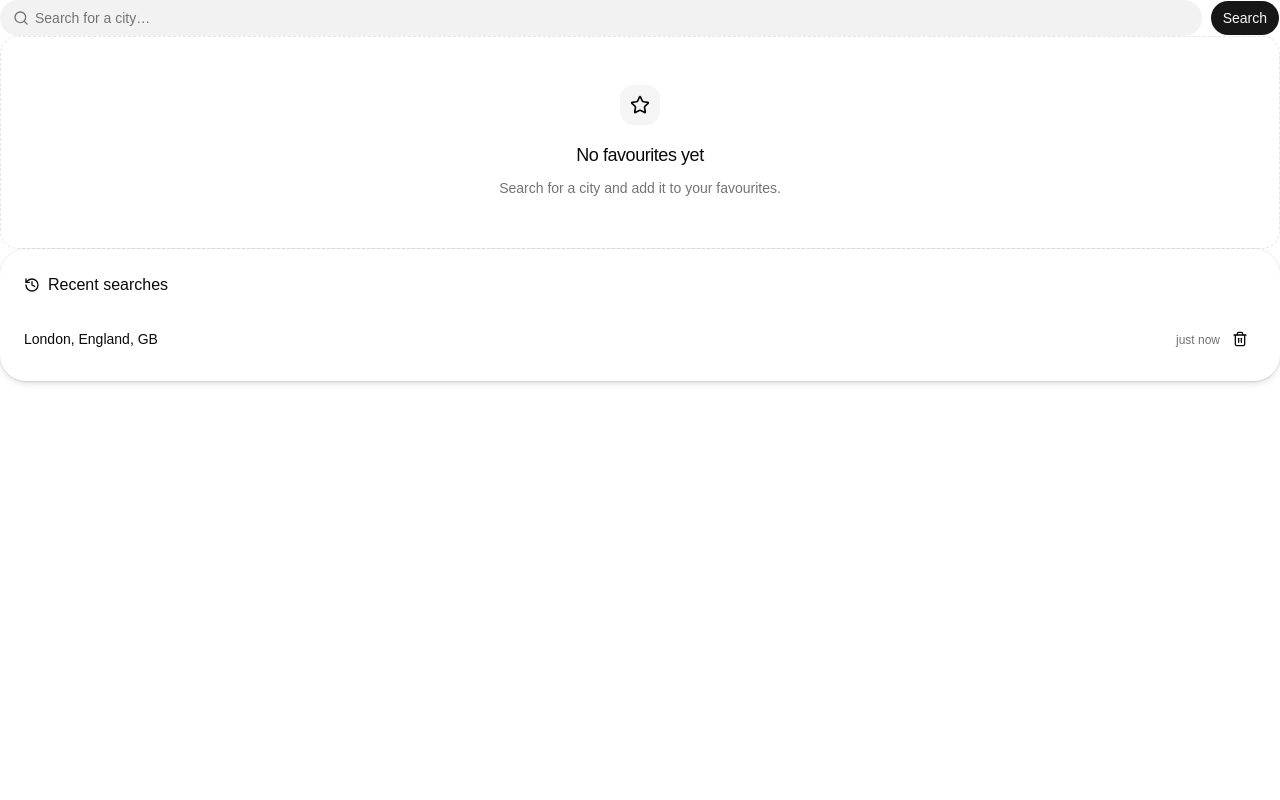
Test: home page composition › clicking a history row re-runs the search in the dialog
Expected: the list with test id "history-list" is shown, [24,321,1256,357]
Click the button "London, England, GB just now".
click(91, 339)  # box [24,321,1220,357]
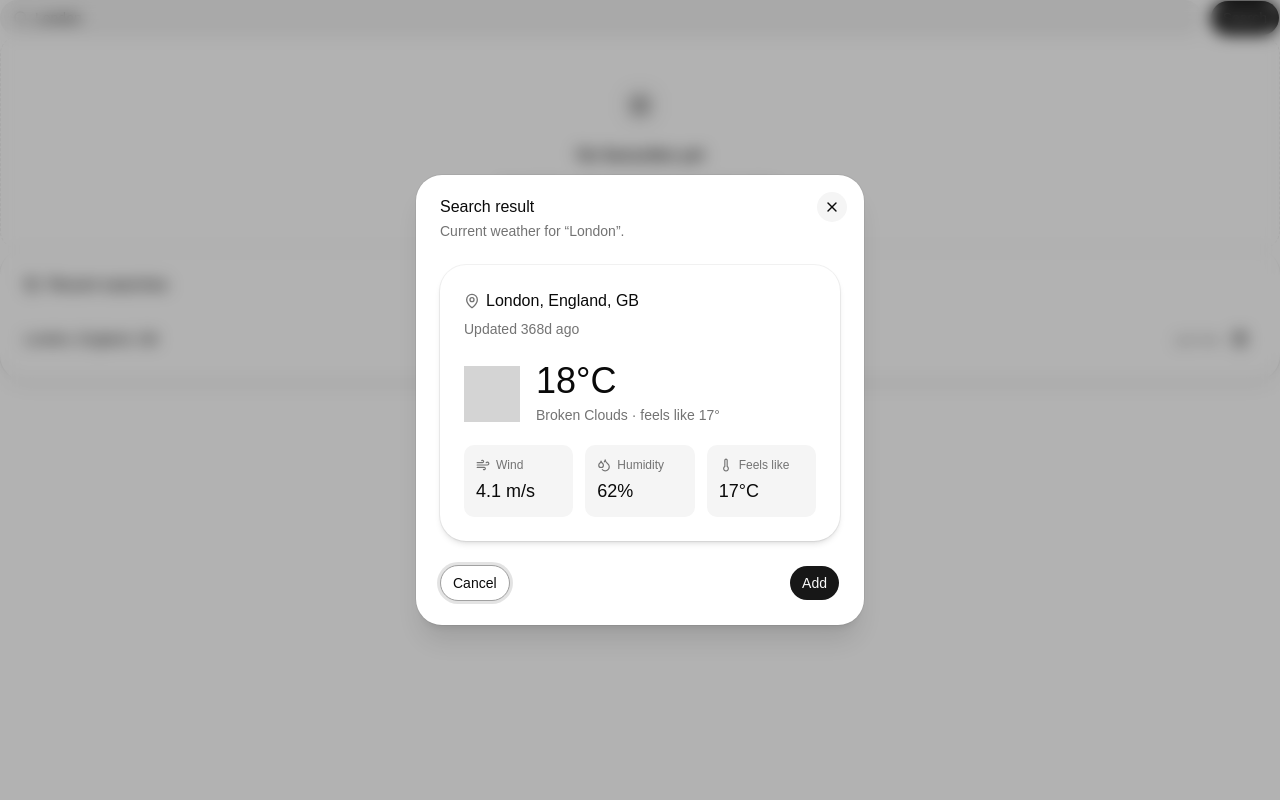
Expected: the dialog with test id "search-result-dialog" is shown, [416,175,864,625]
Expected: the field named "city" holds "London", [29,0,1201,36]
